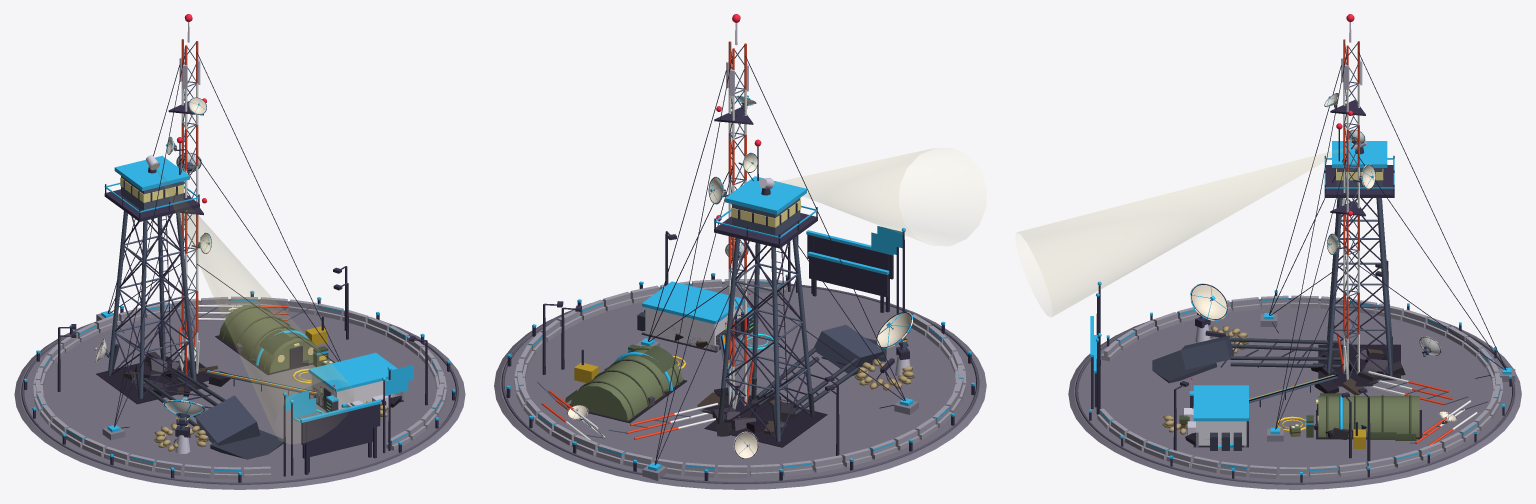
File: outposts.glb
The picture shows the model from 3 angles, left to right: view 1: azimuth 30°, elevation 25°; view 2: azimuth 150°, elevation 25°; view 3: azimuth 270°, elevation 25°; orthographic projection. The views are drawn at different scales.
Visible parts, largest first — view 1: apron, tower_searchlight_beam, tower, mast, tower_barracks, tower_fallen_cab_wreck, shed_roof, apron_edge, tower_sign_board, tower_cab_roof, tower_lattice_scorch_wreck, tower_fallen_roof_wreck (+6 smaller); view 2: apron, tower, tower_searchlight_beam, tower_barracks, mast, shed_roof, apron_edge, shed, tower_fallen_cab_wreck, sign_board, tower_cab_roof, tower_lattice_scorch_wreck (+7 smaller); view 3: apron, tower_searchlight_beam, mast, tower, tower_barracks, shed_roof, apron_edge, tower_fallen_cab_wreck, tower_cab_roof, tower_platform, tower_fallen_roof_wreck, shed (+2 smaller).
Boxes of the visible parts, x1,y1,x2,y2 form: apron: (14, 301, 465, 489); tower_searchlight_beam: (156, 168, 347, 430); tower: (107, 211, 391, 476); mast: (168, 39, 203, 375); tower_barracks: (219, 304, 316, 373); tower_fallen_cab_wreck: (195, 395, 260, 445); shed_roof: (308, 352, 397, 391); apron_edge: (21, 299, 458, 484); tower_sign_board: (301, 404, 380, 444); tower_cab_roof: (114, 155, 189, 191); tower_lattice_scorch_wreck: (96, 356, 208, 404); tower_fallen_roof_wreck: (210, 429, 283, 459); apron: (494, 283, 986, 489); tower: (577, 228, 914, 441); tower_searchlight_beam: (774, 148, 934, 243); tower_barracks: (570, 345, 682, 420); mast: (714, 41, 753, 408); shed_roof: (642, 281, 744, 324); apron_edge: (501, 281, 979, 483); shed: (645, 305, 742, 350); tower_fallen_cab_wreck: (813, 324, 884, 375); sign_board: (809, 256, 888, 297); tower_cab_roof: (725, 176, 806, 214); tower_lattice_scorch_wreck: (704, 395, 827, 447); apron: (1068, 300, 1521, 489); tower_searchlight_beam: (1017, 146, 1351, 316); mast: (1330, 39, 1365, 379); tower: (1091, 198, 1411, 437); tower_barracks: (1318, 396, 1419, 437); shed_roof: (1193, 385, 1248, 421); apron_edge: (1075, 298, 1514, 484); tower_fallen_cab_wreck: (1181, 335, 1233, 369); tower_cab_roof: (1332, 141, 1387, 167); tower_platform: (1324, 165, 1394, 197); tower_fallen_roof_wreck: (1152, 350, 1217, 383); shed: (1196, 421, 1246, 445).
Size of the model in its own units: 49.2 by 47.45 by 54.98.
